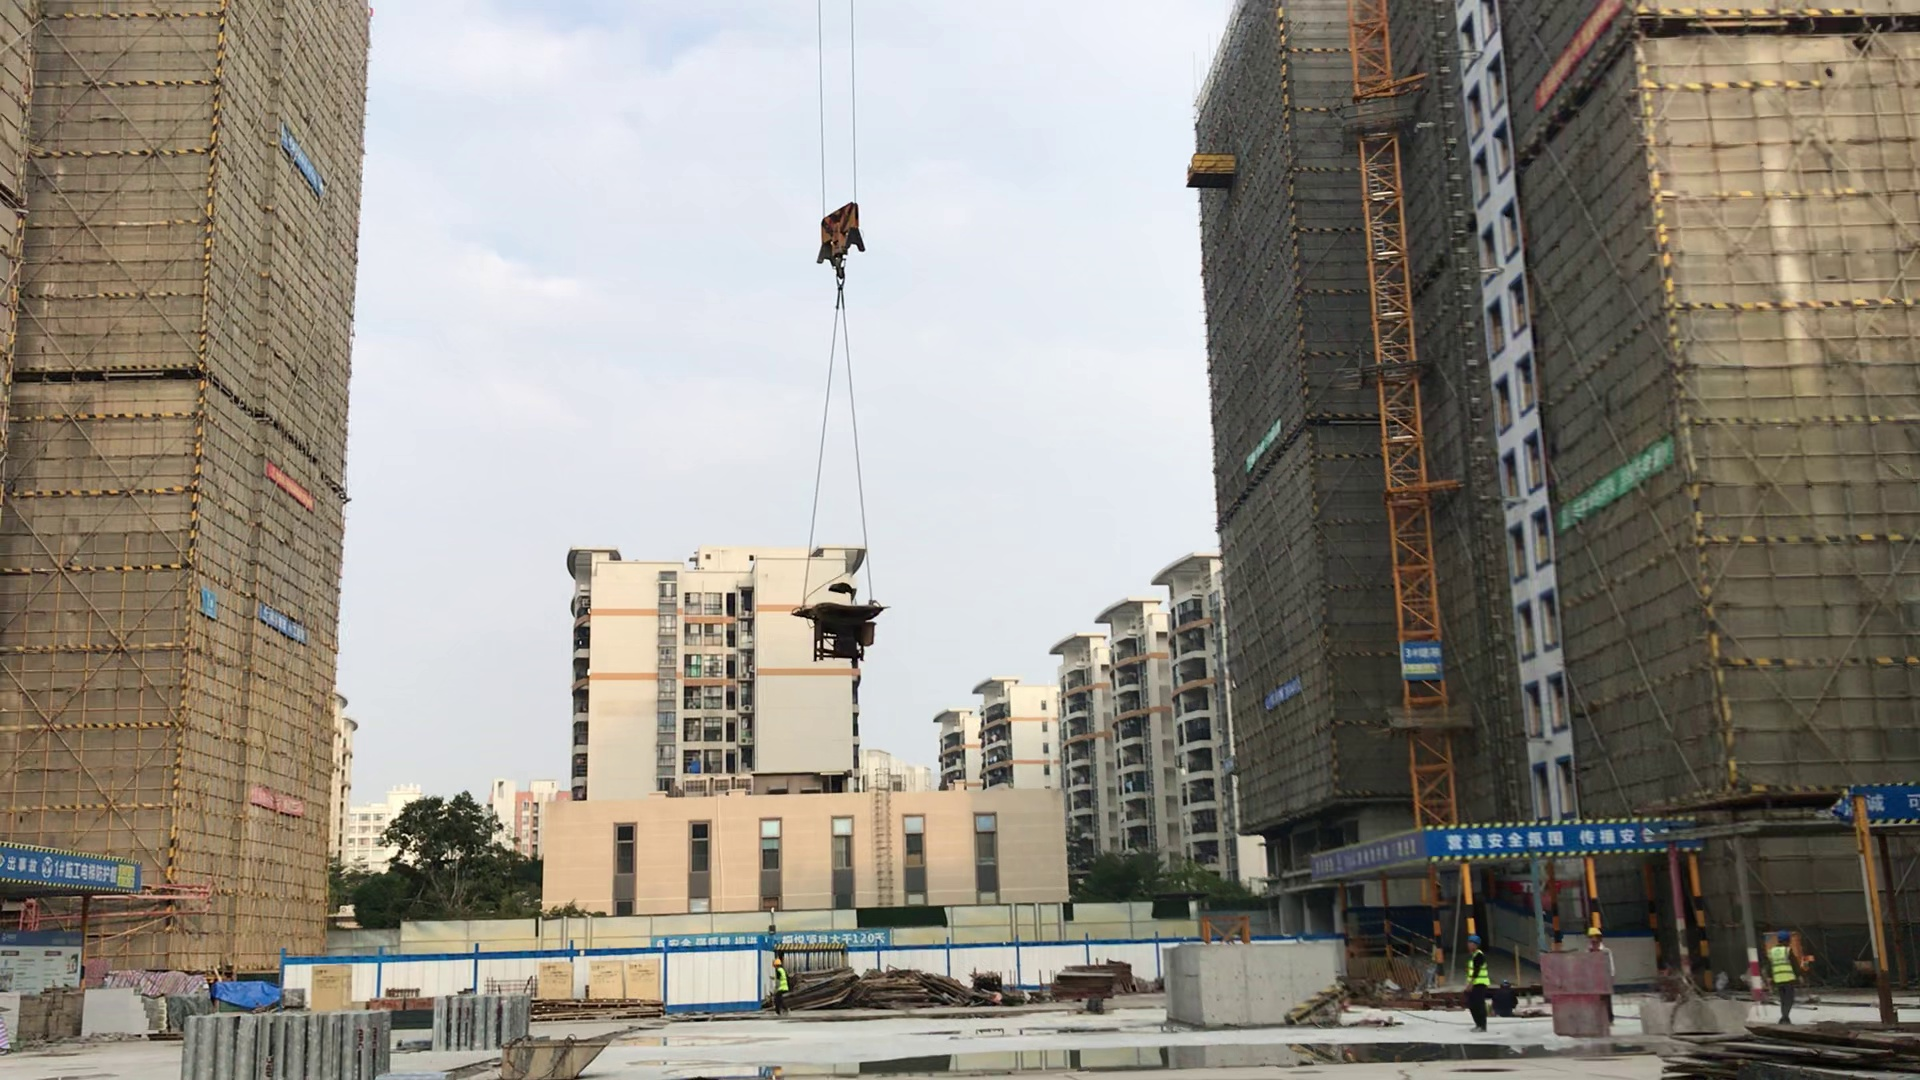helmet: (1587, 929, 1604, 937), (1775, 931, 1792, 940), (1468, 935, 1484, 944), (772, 958, 781, 964)
hook: (805, 187, 881, 297)
hopper: (1635, 986, 1753, 1035)
person: (1760, 931, 1805, 1025), (1460, 937, 1502, 1034), (1586, 928, 1623, 1029), (763, 958, 793, 1015)
slogan: (1435, 811, 1697, 860), (1556, 448, 1675, 530), (1309, 826, 1429, 886), (1541, 1, 1614, 100), (8, 845, 149, 896), (264, 460, 318, 514), (1242, 420, 1283, 472), (249, 785, 309, 819), (266, 608, 307, 641), (1262, 684, 1303, 712)
vest: (1771, 948, 1795, 985), (1467, 958, 1492, 988), (772, 967, 787, 992)
